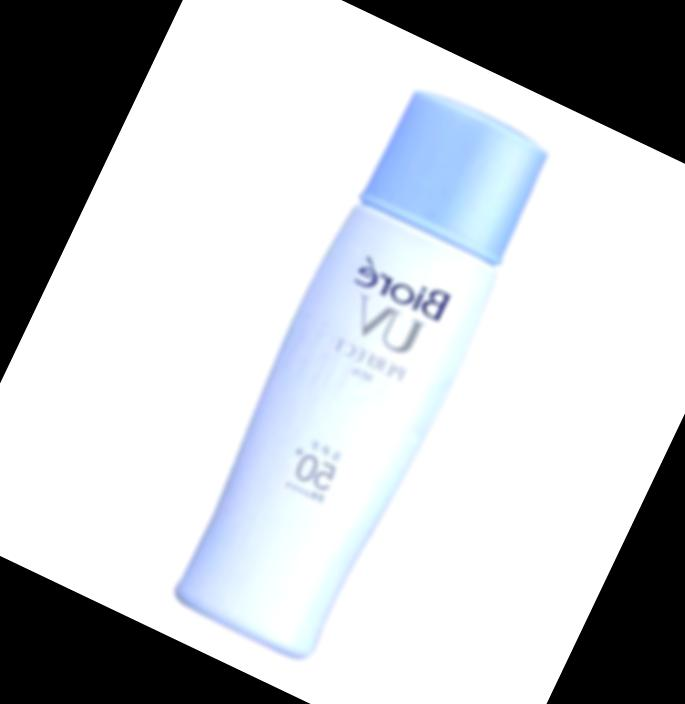cosmetic: (164, 86, 555, 664)
